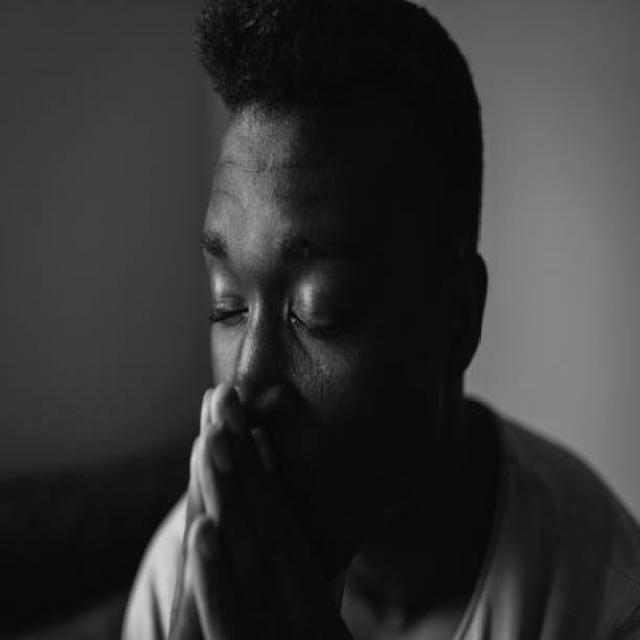real: (201, 114, 456, 492), (202, 223, 386, 355)
